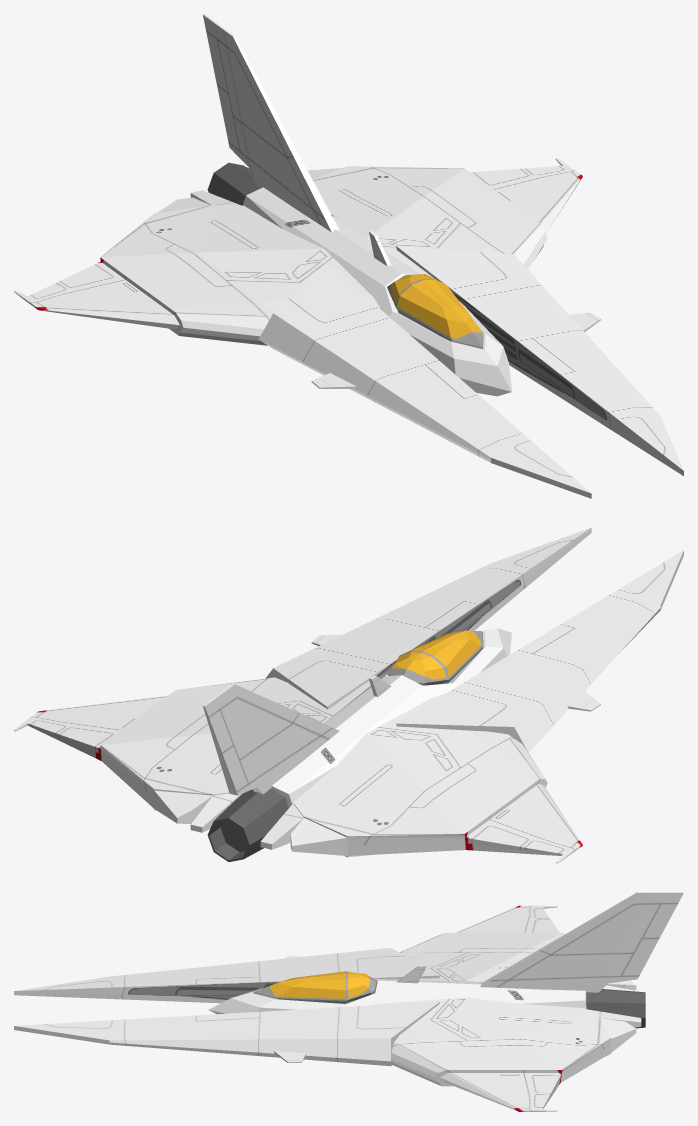
File: vicviper_mirror_fix.obj
3 renders of one model, top to bottom at view 1: azimuth 30°, elevation 25°; view 2: azimuth 150°, elevation 25°; view 3: azimuth 270°, elevation 25°, orthographic. The views are drawn at different scales.
Parts seen in each view (by area): view 1: 球; view 2: 球; view 3: 球.
Part boxes in pixels (box(x1,y1,x2,y2)): 球: box(14, 14, 683, 498); 球: box(14, 527, 683, 863); 球: box(14, 892, 683, 1111).
Size of the model in its own units: 5.65 by 2.12 by 7.8.
1 material, 1 textured.
